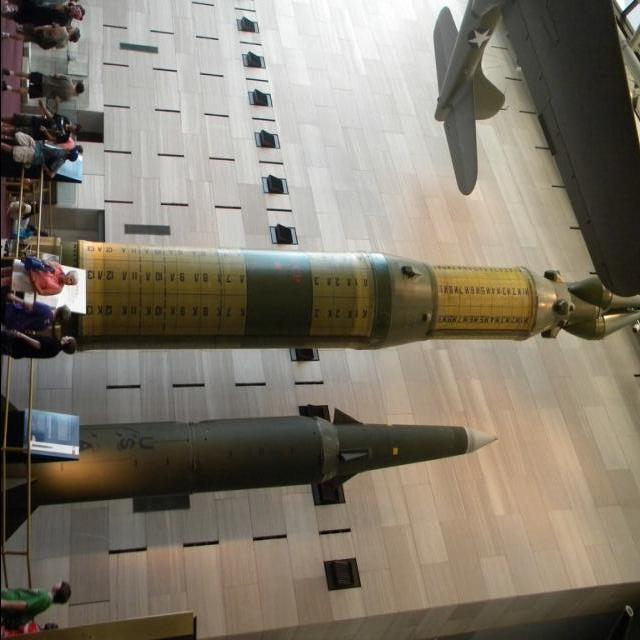Missile: (54, 228, 629, 378), (0, 413, 493, 495)
